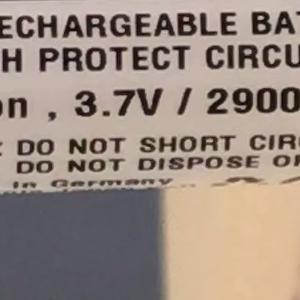keyword: (65, 78, 171, 127)
